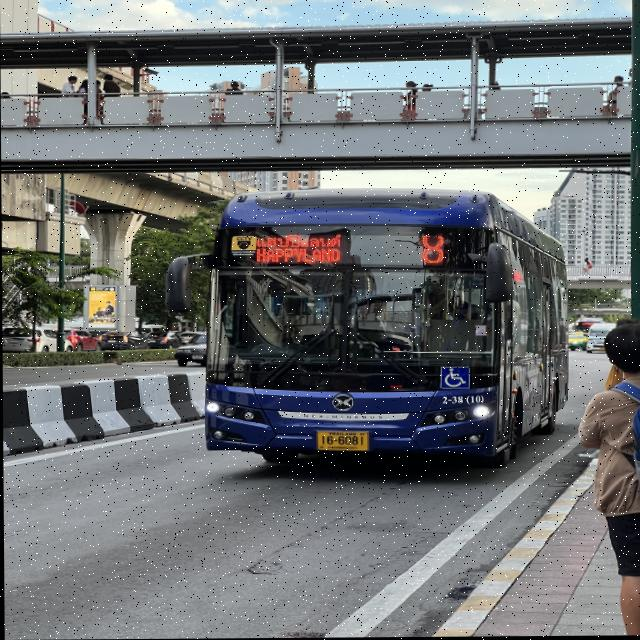Bus Line Number: (402, 228, 460, 272)
Bus Side Number: (437, 394, 487, 406)
Destination Sign: (251, 232, 351, 269)
TSB-Bus: (168, 192, 570, 468)
